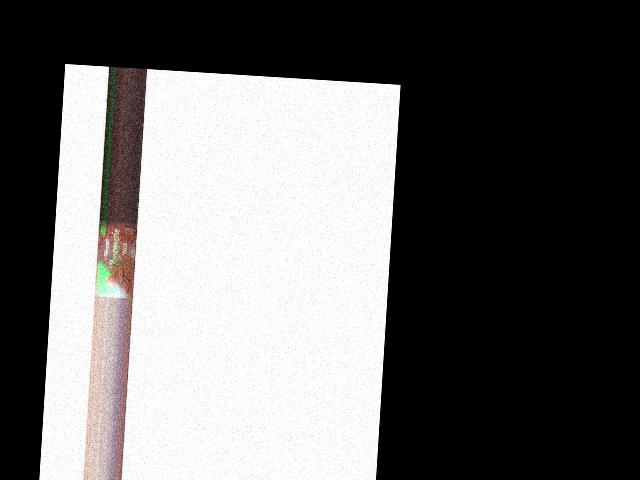chocolate: (96, 218, 137, 297)
